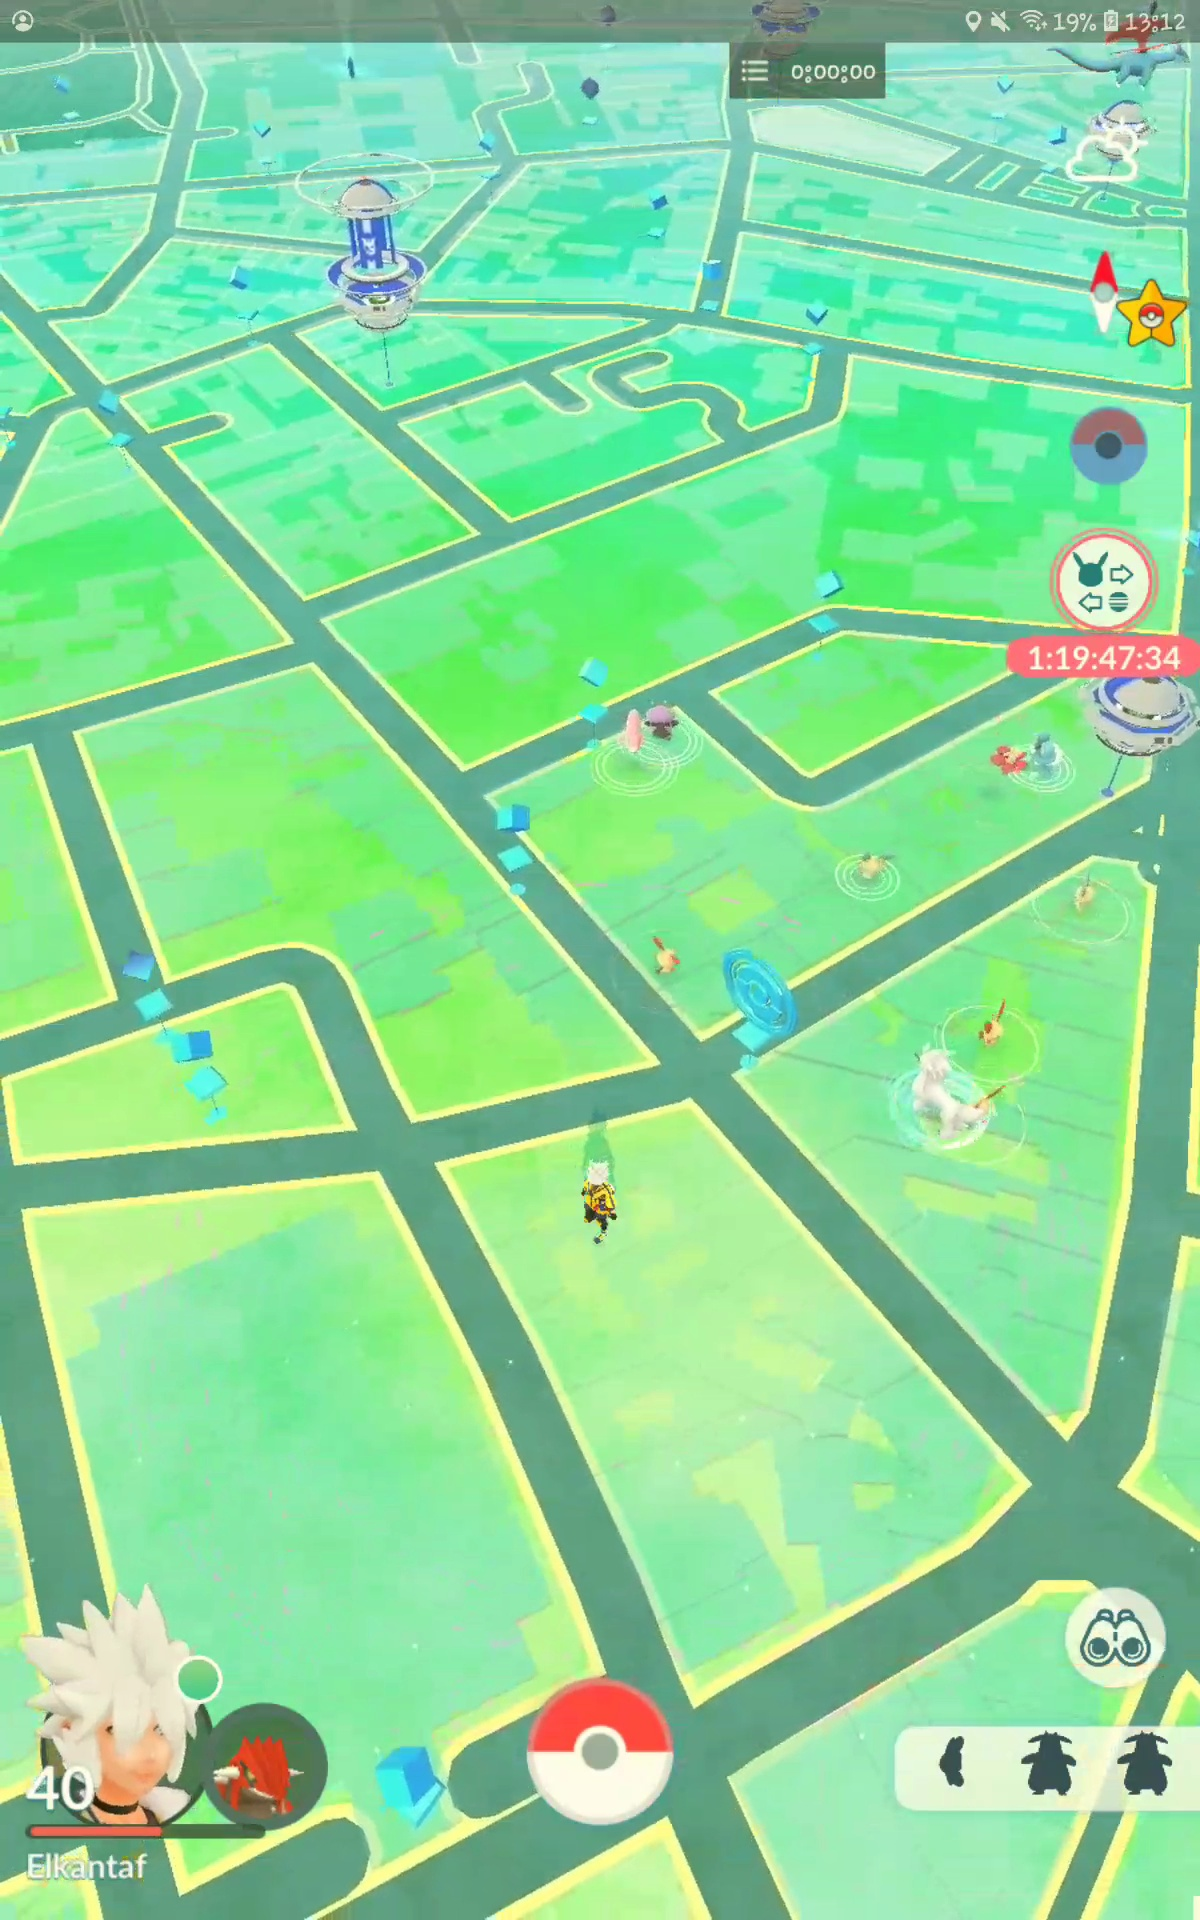Pokemon: (903, 1044, 990, 1149), (841, 843, 908, 894), (1024, 731, 1076, 782), (643, 698, 693, 748), (973, 995, 1019, 1048), (644, 933, 691, 983), (986, 740, 1034, 784), (1067, 867, 1106, 921), (619, 708, 647, 760)
